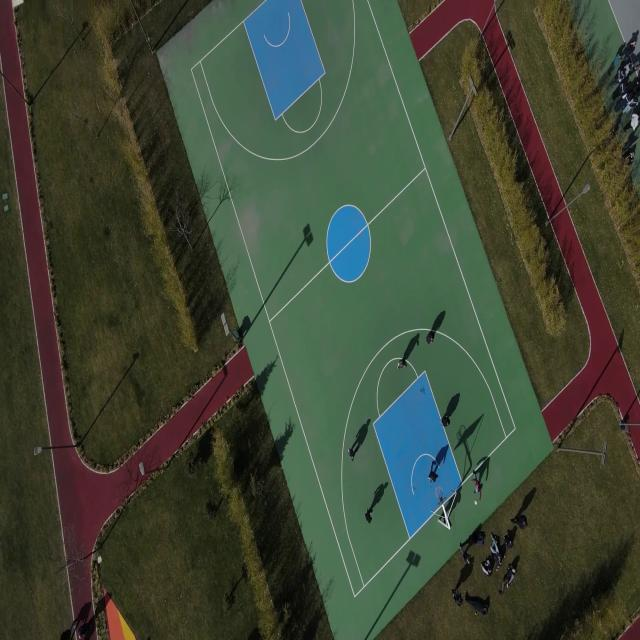vehicle: (490, 532, 506, 573), (466, 592, 488, 616), (500, 564, 517, 594), (613, 89, 633, 112), (610, 80, 630, 98), (608, 52, 624, 74), (608, 67, 626, 86), (622, 94, 639, 113), (623, 114, 640, 132), (472, 476, 482, 506), (459, 544, 472, 566), (451, 586, 464, 607), (428, 460, 438, 486), (481, 557, 492, 577), (511, 516, 528, 528), (624, 39, 636, 56), (78, 622, 92, 636), (624, 150, 636, 164), (440, 412, 450, 428), (364, 507, 372, 524), (624, 61, 633, 76), (397, 358, 408, 370), (348, 446, 356, 462), (632, 60, 640, 76), (426, 330, 435, 344)
